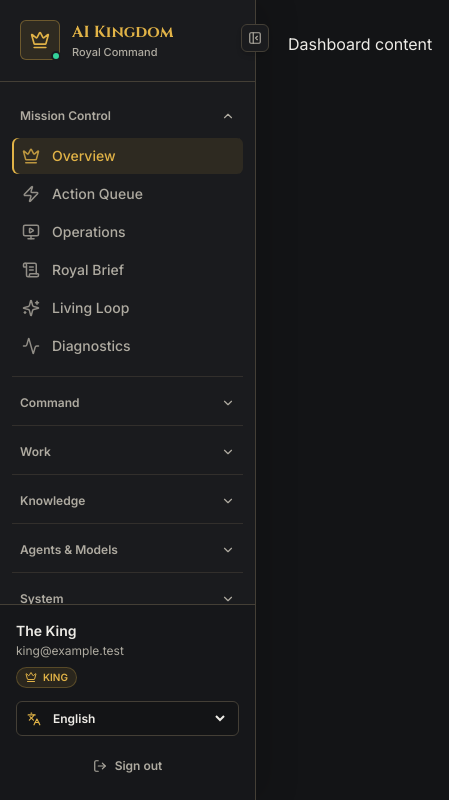
Test case: AppLayout navigation › keeps the current domain open and lets other domains expand
Click the button with aria-label "Command navigation".
click(128, 402)  # box [12,384,243,420]
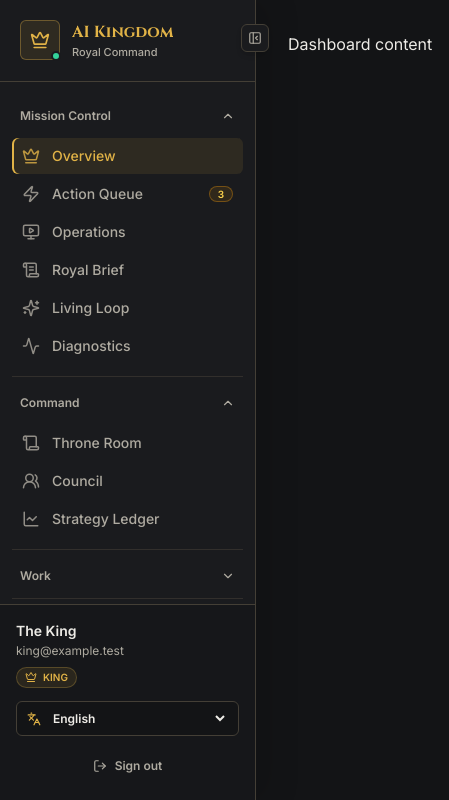
Now the button with aria-label "Command navigation" is expanded, box [12,384,243,420]
Now the text "3" is shown, box [209,186,233,202]
